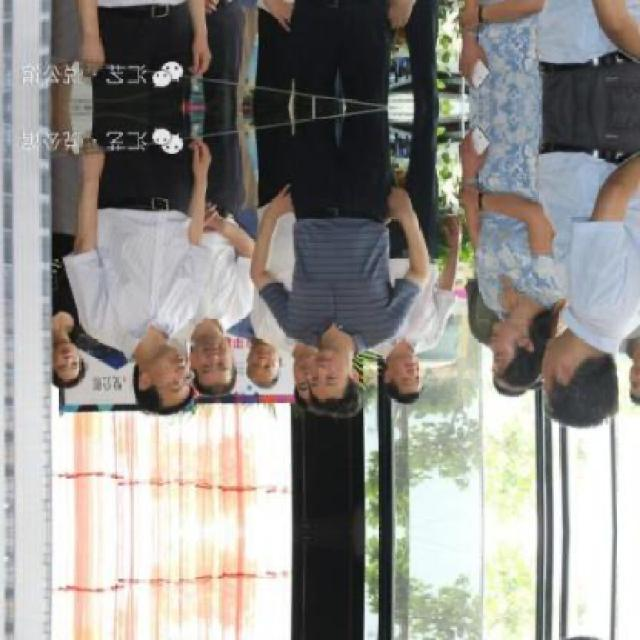sin casco: (524, 317, 626, 443), (286, 319, 385, 443), (167, 320, 270, 422), (108, 336, 199, 432), (486, 321, 587, 403), (367, 334, 447, 416)
